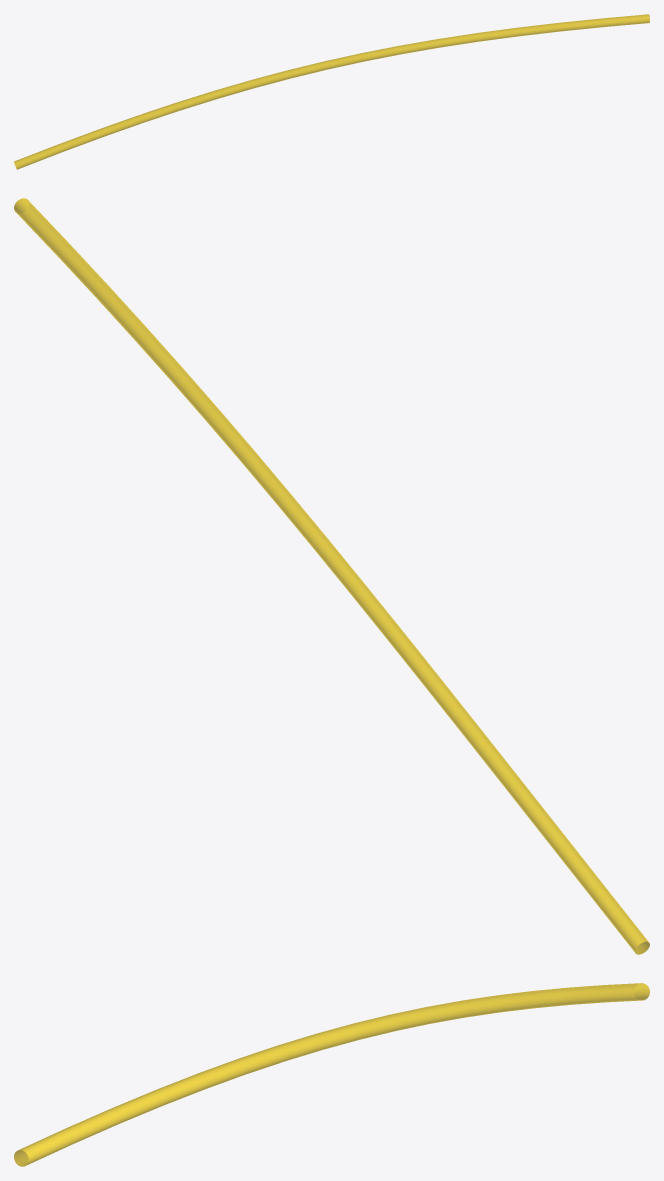
File: Event_100608114_track_136.fbx
3 views of the same model, one above another, from view 1: azimuth 30°, elevation 25°; view 2: azimuth 150°, elevation 25°; view 3: azimuth 270°, elevation 25° (orthographic). The views are drawn at different scales.
Visible parts, largest first — view 1: Model; view 2: Model; view 3: Model.
Boxes of the visible parts, x1=… form: Model: x1=14, y1=14, x2=649, y2=169; Model: x1=14, y1=198, x2=649, y2=954; Model: x1=14, y1=983, x2=649, y2=1166.
Bounding box in the file's own units: 2.49 × 0.7669 × 1.46.
